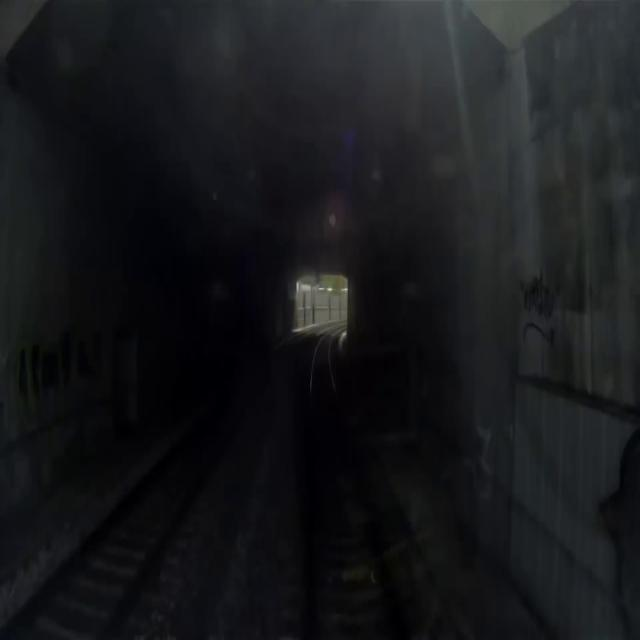rail-track: (5, 334, 302, 639), (312, 328, 389, 639)
